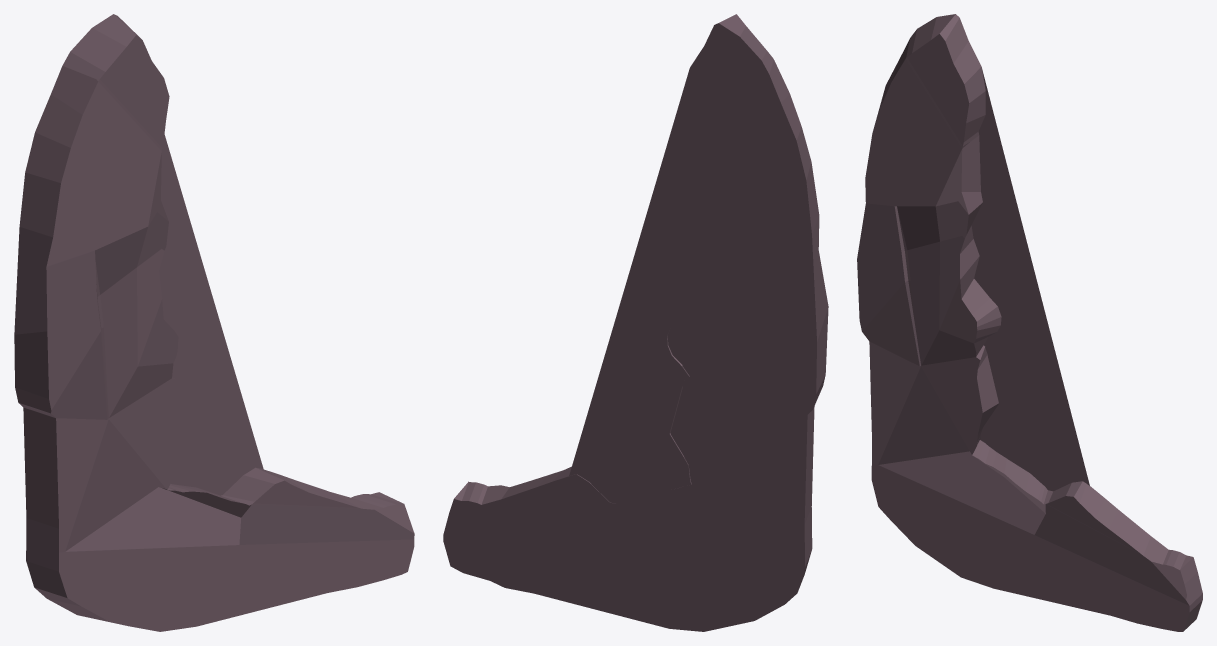
The model's file is SM_Rock_002.fbx.
3 renders of one model, left to right at view 1: azimuth 30°, elevation 25°; view 2: azimuth 150°, elevation 25°; view 3: azimuth 330°, elevation 25°, orthographic. The views are drawn at different scales.
Parts seen in each view (by area): view 1: SM_Rock.002; view 2: SM_Rock.002; view 3: SM_Rock.002.
Part boxes in pixels (x1,y1,x2,y2): SM_Rock.002: (14,14,414,631); SM_Rock.002: (443,14,828,631); SM_Rock.002: (857,14,1202,631).
Bounding box in the file's own units: 241 × 1780 × 2778.
